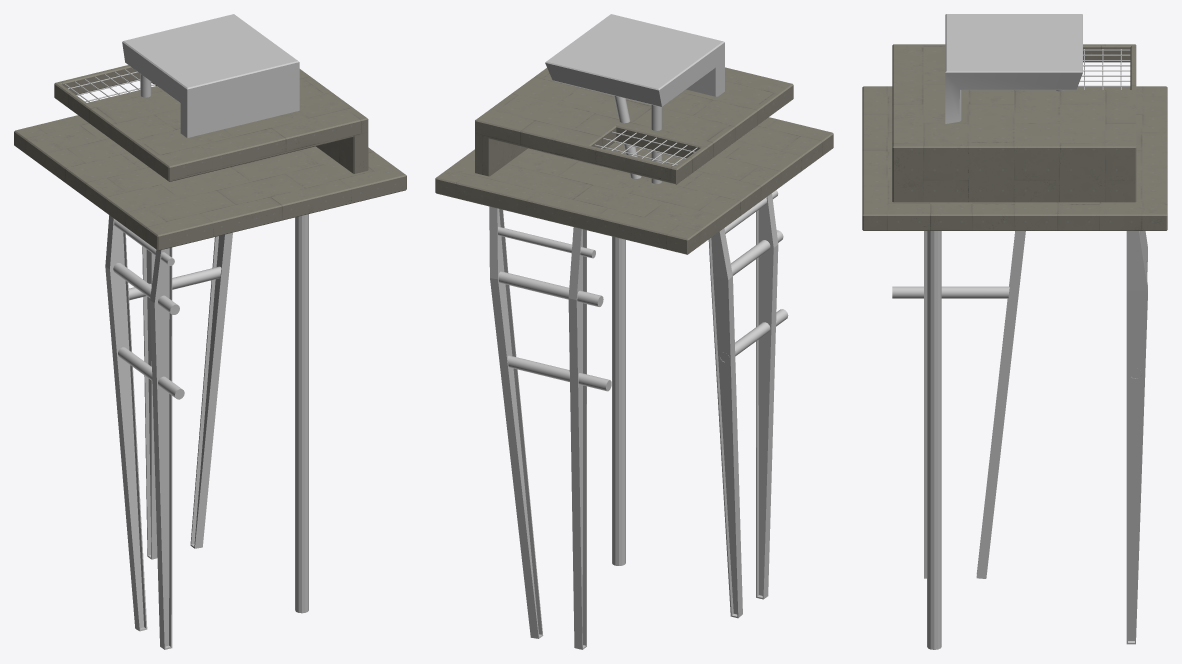
Rendered from PlatformStack2.fbx.
3 renders of one model, left to right at view 1: azimuth 30°, elevation 25°; view 2: azimuth 150°, elevation 25°; view 3: azimuth 270°, elevation 25°, orthographic. The views are drawn at different scales.
Parts seen in each view (by area): view 1: PlatformStack2_Floor, PlatformMedium, PlatformSmall; view 2: PlatformStack2_Floor, PlatformMedium, PlatformSmall; view 3: PlatformStack2_Floor, PlatformMedium, PlatformSmall.
Boxes of the visible parts, bbox=[...] form: PlatformStack2_Floor: bbox=[14, 115, 406, 649]; PlatformMedium: bbox=[54, 65, 368, 181]; PlatformSmall: bbox=[122, 14, 299, 137]; PlatformStack2_Floor: bbox=[435, 117, 833, 649]; PlatformMedium: bbox=[475, 67, 793, 184]; PlatformSmall: bbox=[545, 14, 724, 183]; PlatformStack2_Floor: bbox=[862, 86, 1167, 649]; PlatformMedium: bbox=[892, 44, 1136, 202]; PlatformSmall: bbox=[945, 14, 1082, 123].
Size of the model in its own units: 500 by 1046 by 500.
